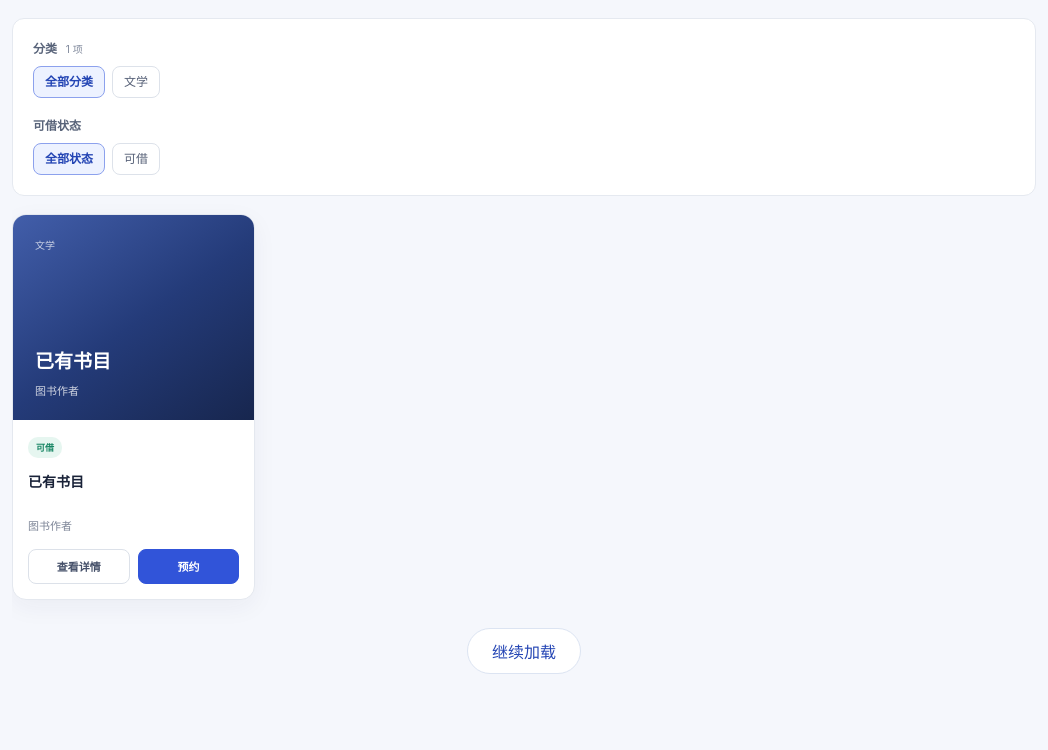
Scenario: HomePage › keeps existing cards when the next cursor returns an empty final batch
(page scrolled)
Click the button with test id "home-load-more".
click(524, 650)  # box [467,628,581,674]
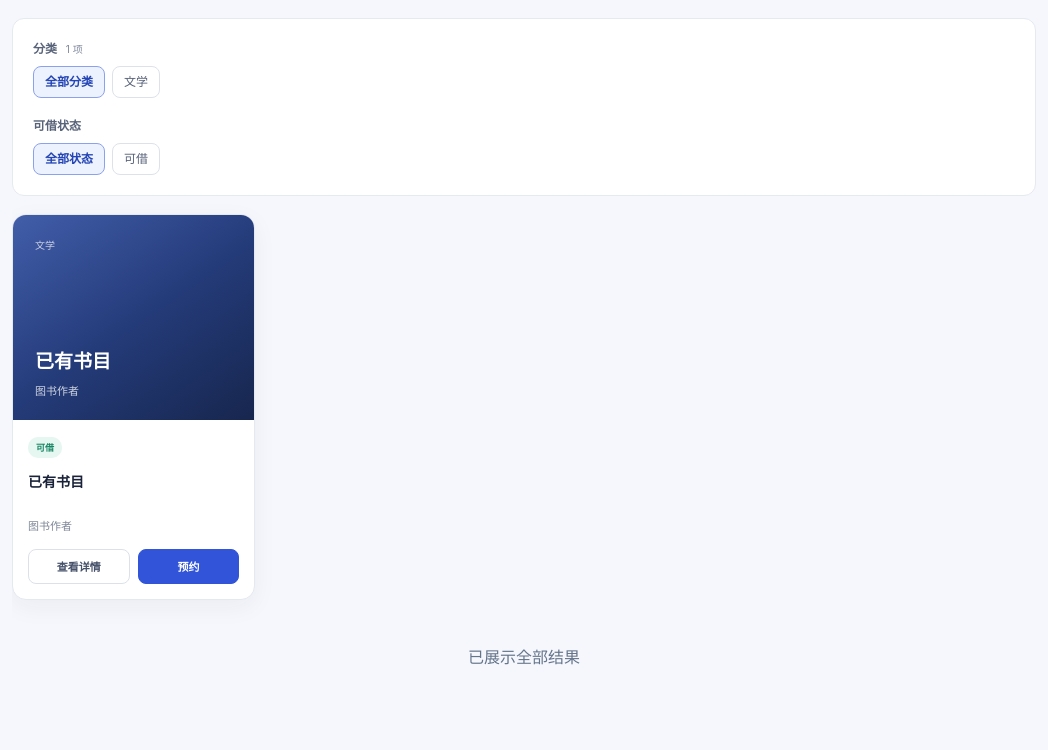
Expected: the text "已有书目" is shown, [35,351,111,372]
Expected: the text "已展示全部结果" is shown, [468,644,580,668]
